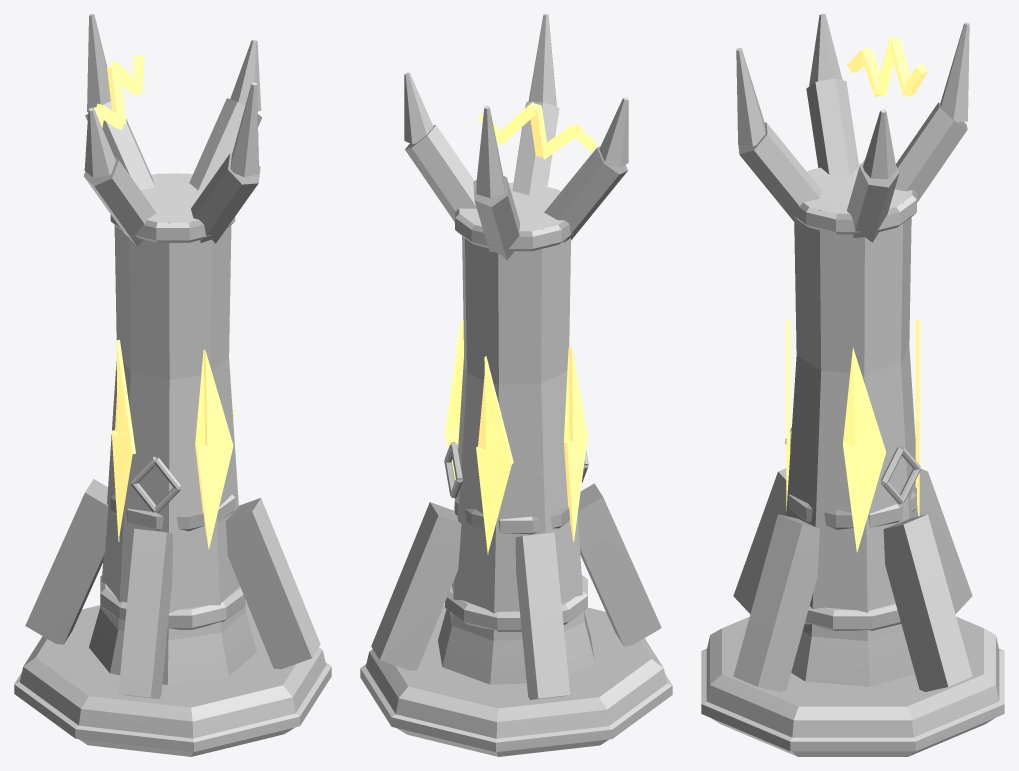
File: thunder.glb
3 views of the same model, side by side, from view 1: azimuth 30°, elevation 25°; view 2: azimuth 150°, elevation 25°; view 3: azimuth 270°, elevation 25° (orthographic). The views are drawn at different scales.
Parts seen in each view (by area): view 1: thunder.001; view 2: thunder.001; view 3: thunder.001.
Boxes of the visible parts, x1,y1,x2,y2 form: thunder.001: (14, 14, 331, 756); thunder.001: (360, 14, 672, 756); thunder.001: (701, 14, 1004, 756).
Bounding box in the file's own units: 1.05 × 2.55 × 1.05.
